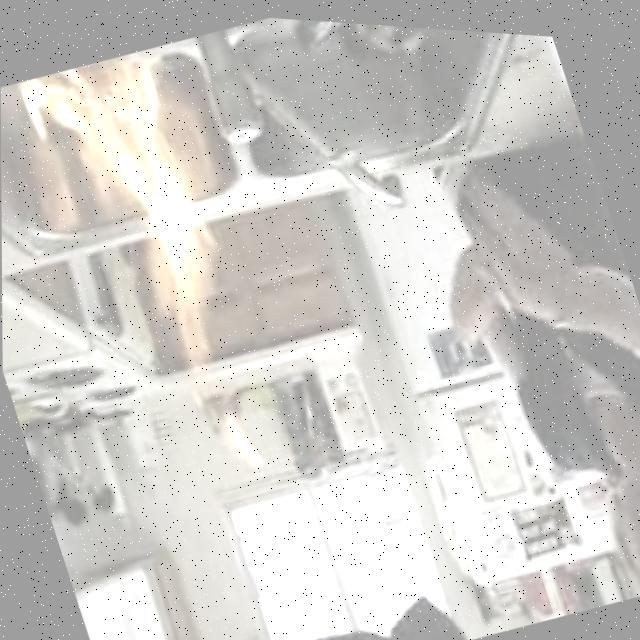Fire: (23, 39, 258, 409)
